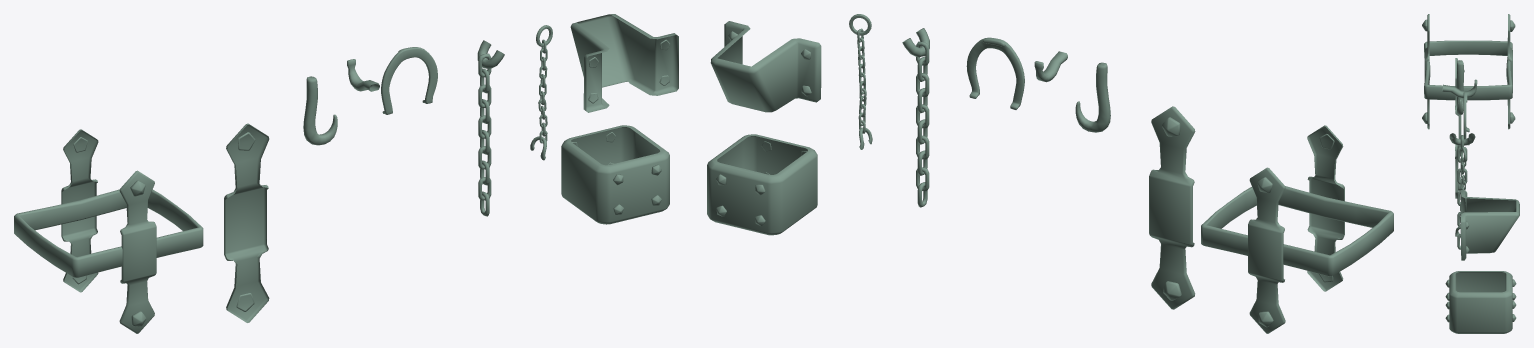
Rendered from metal_set_01.FBX.
The picture shows the model from 3 angles, left to right: view 1: azimuth 30°, elevation 25°; view 2: azimuth 150°, elevation 25°; view 3: azimuth 270°, elevation 25°; orthographic projection. The views are drawn at different scales.
Visible parts, largest first — view 1: metal_set_ornament_04, metal_set_ornament_02, metal_set_ornament_01, metal_set_ornament_03, metal_set_chain_01, metal_set_horseshoe, metal_set_hook_01, metal_set_chain_02, metal_set_hook_02; view 2: metal_set_ornament_04, metal_set_ornament_02, metal_set_ornament_03, metal_set_ornament_01, metal_set_chain_01, metal_set_horseshoe, metal_set_hook_01, metal_set_chain_02, metal_set_hook_02; view 3: metal_set_ornament_02, metal_set_ornament_04, metal_set_ornament_01, metal_set_chain_01, metal_set_ornament_03, metal_set_hook_01, metal_set_chain_02, metal_set_hook_02, metal_set_horseshoe.
Boxes of the visible parts, bbox=[...] form: metal_set_ornament_04: bbox=[14, 129, 203, 333]; metal_set_ornament_02: bbox=[561, 125, 669, 224]; metal_set_ornament_01: bbox=[570, 14, 678, 112]; metal_set_ornament_03: bbox=[224, 123, 269, 322]; metal_set_chain_01: bbox=[477, 40, 504, 216]; metal_set_horseshoe: bbox=[381, 47, 437, 114]; metal_set_hook_01: bbox=[303, 76, 337, 145]; metal_set_chain_02: bbox=[530, 25, 552, 160]; metal_set_hook_02: bbox=[347, 59, 379, 91]; metal_set_ornament_04: bbox=[1201, 125, 1393, 333]; metal_set_ornament_02: bbox=[707, 134, 817, 235]; metal_set_ornament_03: bbox=[1149, 106, 1195, 309]; metal_set_ornament_01: bbox=[710, 21, 821, 112]; metal_set_chain_01: bbox=[902, 28, 929, 207]; metal_set_horseshoe: bbox=[966, 37, 1024, 109]; metal_set_hook_01: bbox=[1075, 62, 1110, 132]; metal_set_chain_02: bbox=[849, 14, 872, 149]; metal_set_hook_02: bbox=[1034, 51, 1067, 82]; metal_set_ornament_02: bbox=[1445, 271, 1516, 333]; metal_set_ornament_04: bbox=[1422, 14, 1515, 129]; metal_set_ornament_01: bbox=[1461, 190, 1519, 260]; metal_set_chain_01: bbox=[1449, 133, 1475, 249]; metal_set_ornament_03: bbox=[1455, 58, 1464, 198]; metal_set_hook_01: bbox=[1457, 60, 1463, 115]; metal_set_chain_02: bbox=[1455, 147, 1466, 236]; metal_set_hook_02: bbox=[1442, 79, 1477, 98]; metal_set_horseshoe: bbox=[1463, 92, 1469, 145].
Bounding box in the file's own units: 191 × 65.84 × 36.09.
